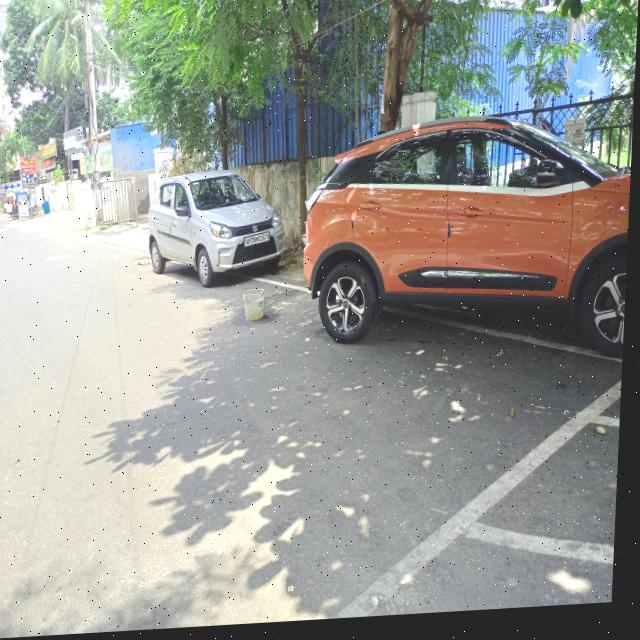car: (293, 121, 635, 380), (141, 157, 295, 304)
